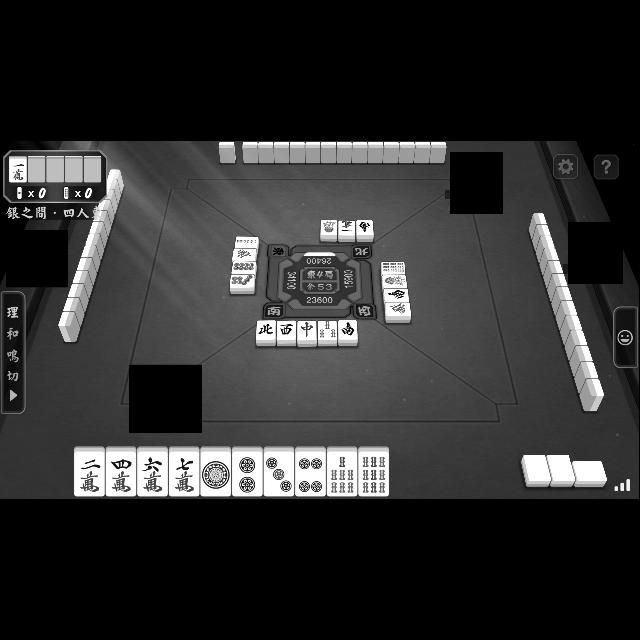1m: (9, 156, 27, 182), (339, 220, 355, 242)
1p: (200, 452, 230, 498)
1s: (382, 274, 408, 288), (320, 220, 338, 240)
2m: (74, 451, 106, 495)
2p: (232, 451, 264, 495)
2s: (236, 236, 258, 248)
3p: (264, 449, 294, 496)
3s: (318, 318, 338, 339)
4m: (106, 450, 136, 496)
4p: (296, 450, 326, 496)
6m: (138, 450, 168, 496)
7m: (170, 452, 200, 496)
7p: (230, 274, 254, 292)
7s: (327, 450, 357, 496)
8p: (232, 260, 256, 274)
9s: (358, 450, 390, 496), (380, 262, 406, 274)
chun: (298, 321, 316, 341)
haku: (550, 454, 576, 482), (573, 460, 607, 480), (526, 455, 550, 481)
hatsu: (386, 302, 410, 324), (232, 248, 256, 260)
nan: (339, 321, 357, 342), (384, 288, 410, 302), (356, 218, 372, 240)
pe: (257, 320, 275, 338)
sha: (278, 320, 296, 340)
